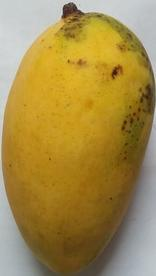Ripe: (0, 1, 156, 276)
